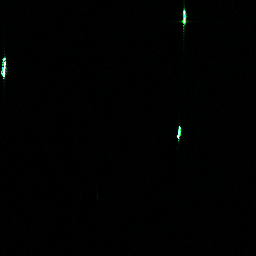ship: (1, 55, 7, 78), (175, 124, 183, 140), (181, 7, 187, 25)
